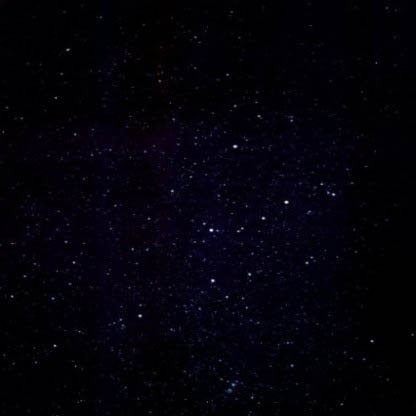Cassiopeia: (259, 196, 296, 224), (199, 272, 226, 291), (197, 217, 223, 236), (219, 135, 244, 153), (125, 307, 148, 324)
